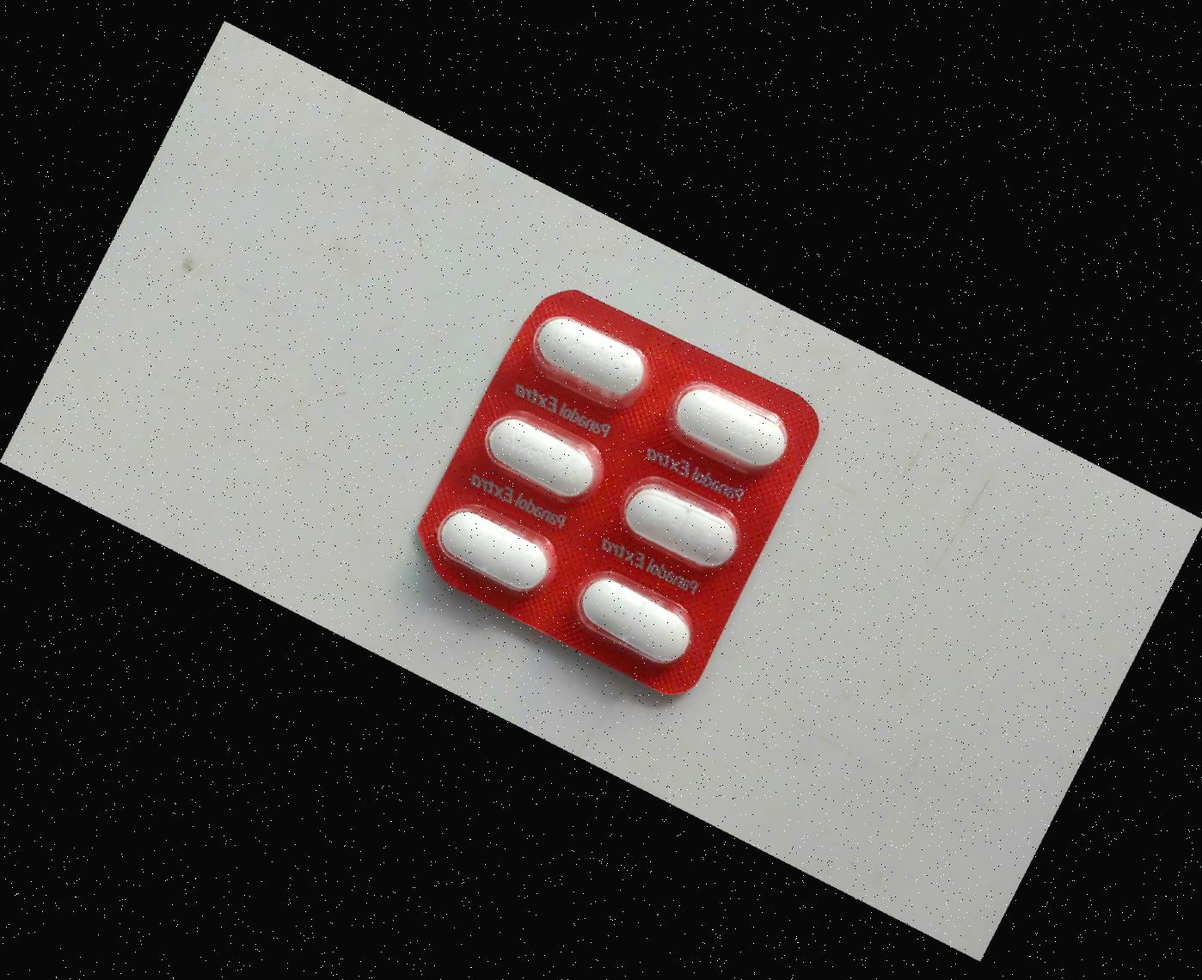Full: (513, 295, 663, 417), (464, 395, 613, 517), (418, 482, 567, 604), (654, 363, 803, 485), (604, 462, 753, 584), (557, 558, 706, 680)
